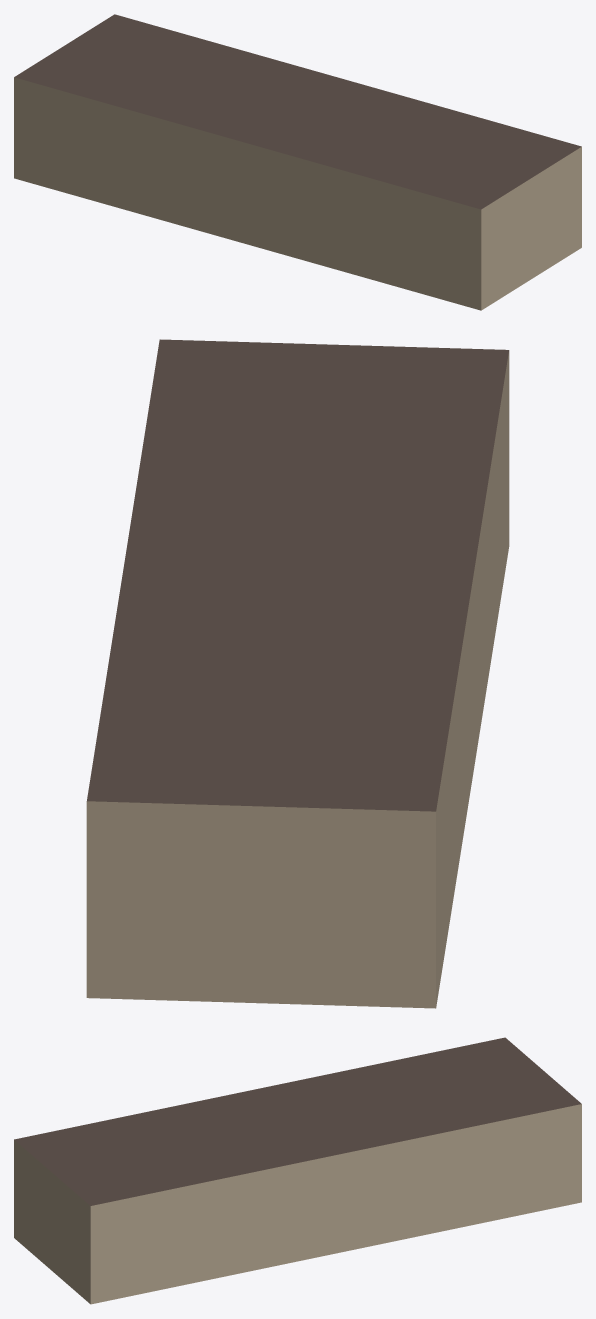
3 renders of one model, top to bottom at view 1: azimuth 30°, elevation 25°; view 2: azimuth 150°, elevation 25°; view 3: azimuth 270°, elevation 25°, orthographic. The views are drawn at different scales.
Visible parts, largest first — view 1: HP-w1287259388; view 2: HP-w1287259388; view 3: HP-w1287259388.
Boxes of the visible parts, x1,y1,x2,y2 form: HP-w1287259388: [14, 14, 581, 310]; HP-w1287259388: [86, 339, 509, 1008]; HP-w1287259388: [14, 1037, 581, 1304].
Size of the model in its own units: 33.06 by 9 by 47.07.
